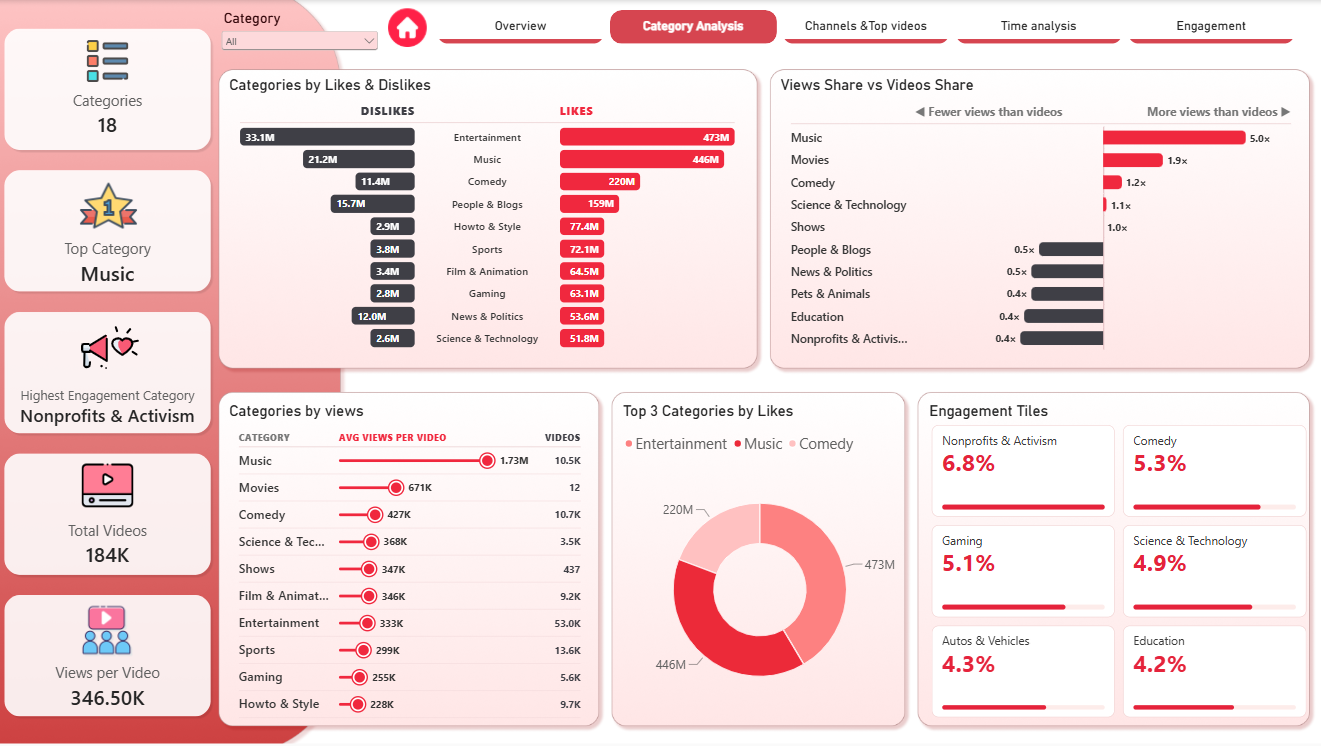

The dashboard page shown, as its layout file describes it:
{"tool":"powerbi","page":{"name":"Category Analysis","canvas":[1920,1080],"ordinal":2},"visuals":[{"type":"cardVisual","fields":{"Data":["Measures (2).Categories in Fact","Measures (2).Top Performing Category","Measures (2).Highest Engagement Category","Measures (2).Total Videos","Measures (2).Views per Video"]},"box":[0,30,320,1020],"z":0},{"type":"actionButton","box":[557.7,7.4,73.6,66.3],"z":2000},{"type":"htmlContent443BE3AD55E043BF878BED274D3A6865","title":"Categories by Likes & Dislikes","fields":{"content":["Measures (2).HTML_Chart_Likes_Dislikes"]},"box":[320,96,780,444],"z":3000},{"type":"htmlContent443BE3AD55E043BF878BED274D3A6865","title":"Views Share vs Videos Share","fields":{"content":["Measures (2).Share Index HTML"]},"box":[1118,96,784,444],"z":4000},{"type":"donutChart","title":"Top 3 Categories by Likes","fields":{"Category":["Dim_Category.category_name"],"Y":["Measures (2).Total Likes"]},"box":[890,568,428,496],"z":5000},{"type":"htmlContent443BE3AD55E043BF878BED274D3A6865","title":"Categories by views","fields":{"content":["Measures (2).Avg Views per Video HTML"]},"box":[320,568,554,496],"z":6000},{"type":"htmlContent443BE3AD55E043BF878BED274D3A6865","title":"Engagement Tiles","fields":{"content":["DAX_Meassures.Eng Tiles HTML"]},"box":[1333.3,568.8,587.1,511.7],"z":7000},{"type":"slicer","fields":{"Values":["Dim_Category.category_name"]},"box":[320.2,14.7,236.2,71.1],"z":7001},{"type":"pageNavigator","box":[636.8,14.7,1246,49.7],"z":7002}]}

Visuals, with their boxes in screenshot pixels (x1, y1, x2, y2), scaled from the page's 1920x1080 canvas onto the 1321x746 screenshot:
cardVisual - Measures (2).Categories in Fact x Measures (2).Top Performing Category: BBox(0, 21, 220, 725)
actionButton: BBox(384, 5, 434, 51)
"Categories by Likes & Dislikes" htmlContent443BE3AD55E043BF878BED274D3A6865: BBox(220, 66, 757, 373)
"Views Share vs Videos Share" htmlContent443BE3AD55E043BF878BED274D3A6865: BBox(769, 66, 1309, 373)
"Top 3 Categories by Likes" donutChart: BBox(612, 392, 907, 735)
"Categories by views" htmlContent443BE3AD55E043BF878BED274D3A6865: BBox(220, 392, 601, 735)
"Engagement Tiles" htmlContent443BE3AD55E043BF878BED274D3A6865: BBox(917, 393, 1320, 745)
slicer - Dim_Category.category_name: BBox(220, 10, 383, 59)
pageNavigator: BBox(438, 10, 1295, 44)
